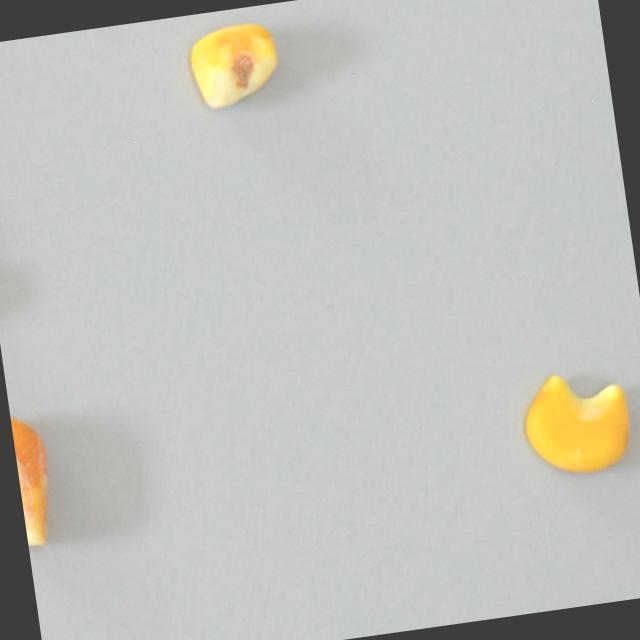dañado: (516, 357, 640, 480), (172, 2, 299, 119), (10, 403, 80, 563)
